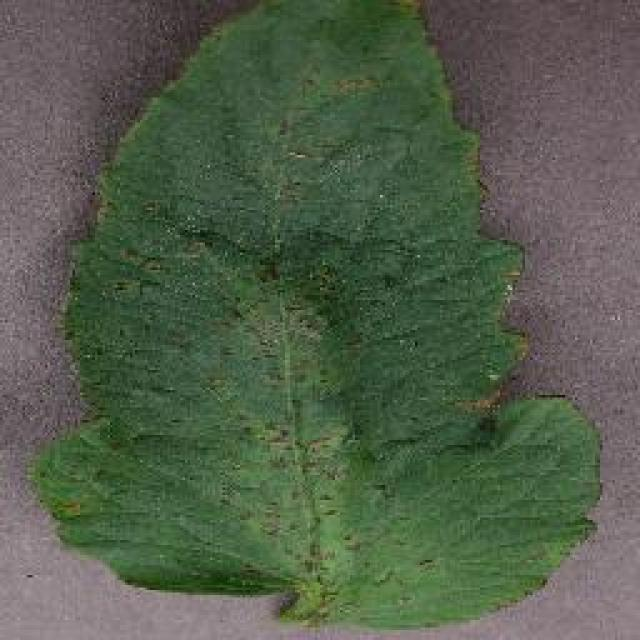bacterial spot: (28, 0, 605, 627)
